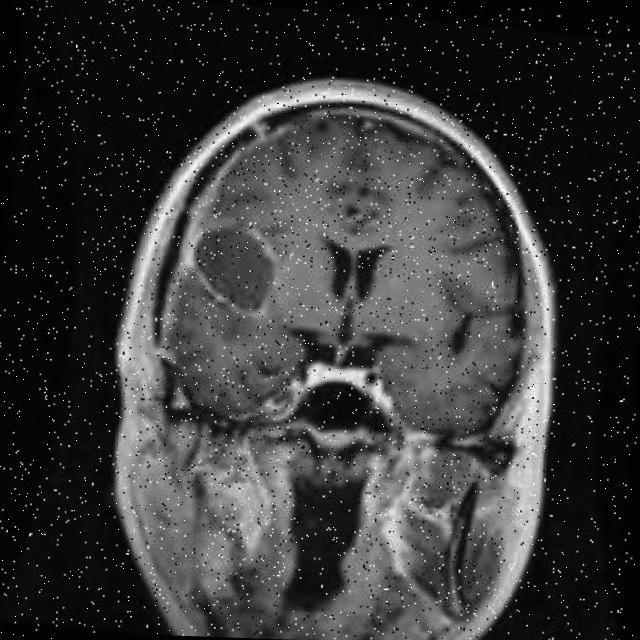MCI: (139, 208, 304, 404)
